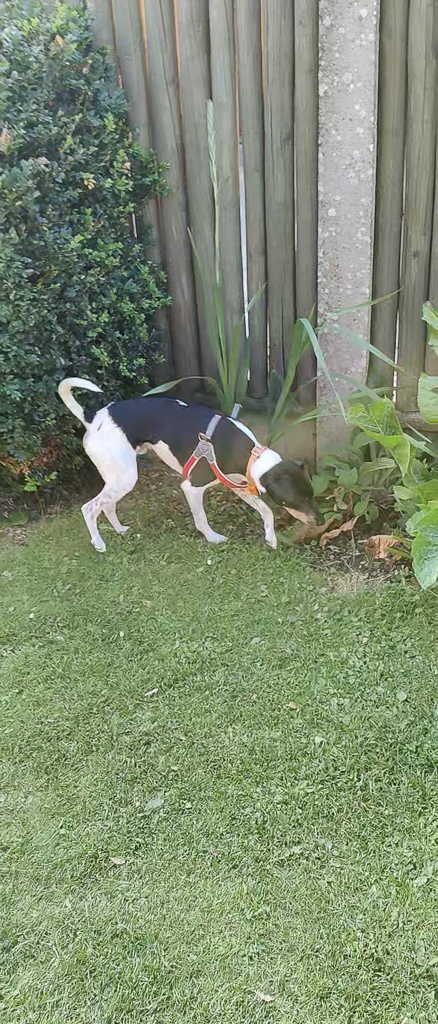Dog: (42, 361, 340, 561)
